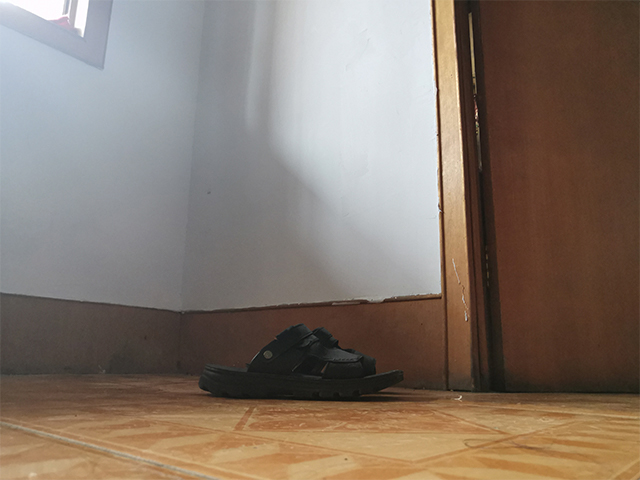slippers: (194, 321, 407, 403)
